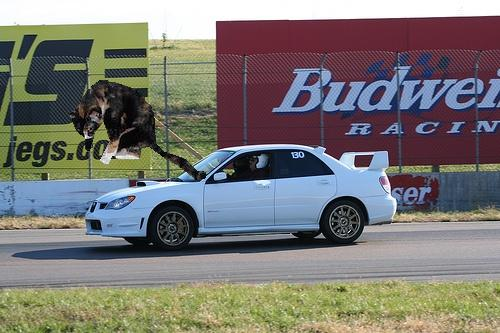tampered: (71, 81, 206, 180)
